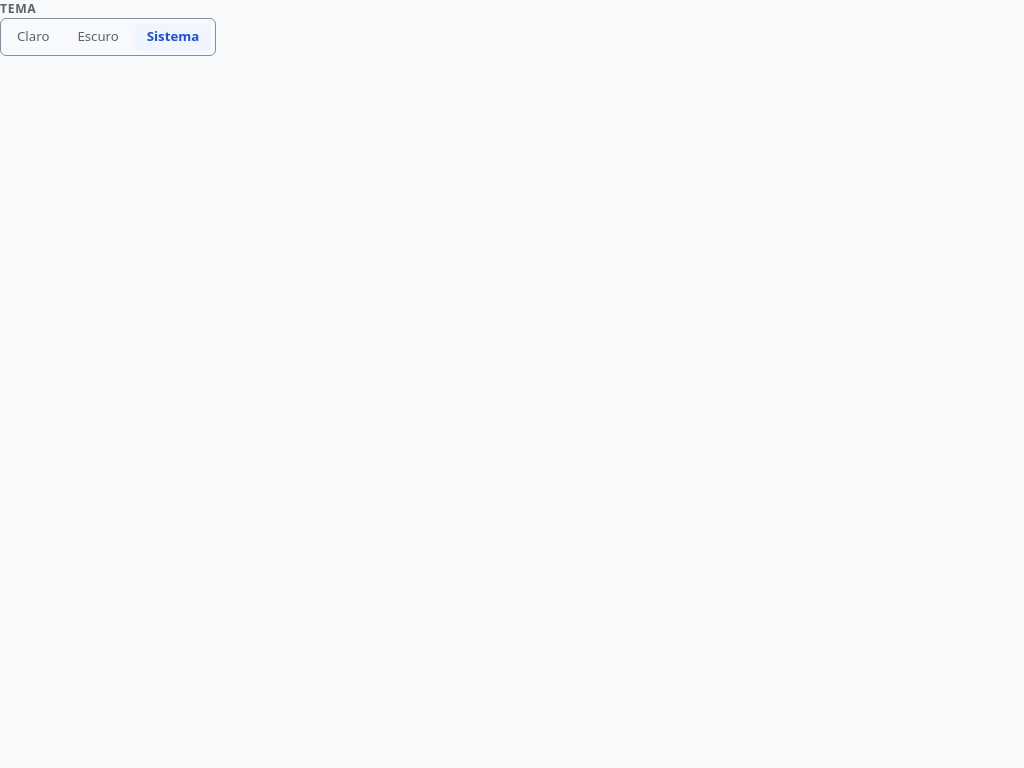
Test: AlternadorTema › escolher uma opção troca o tema do documento
The image size is (1024, 768).
Click the radio button labelled "Escuro".
click(98, 36)  # box x1=77 y1=27 x2=119 y2=45
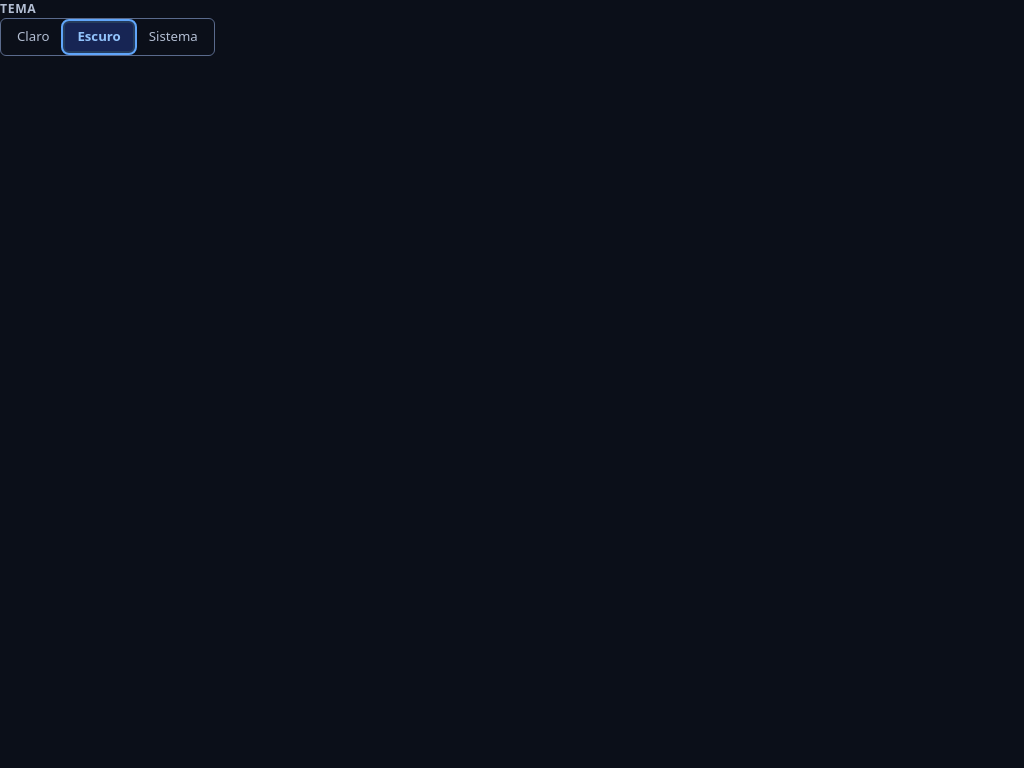
Check: the radio button labelled "Escuro" is checked, box x1=65 y1=23 x2=133 y2=51
